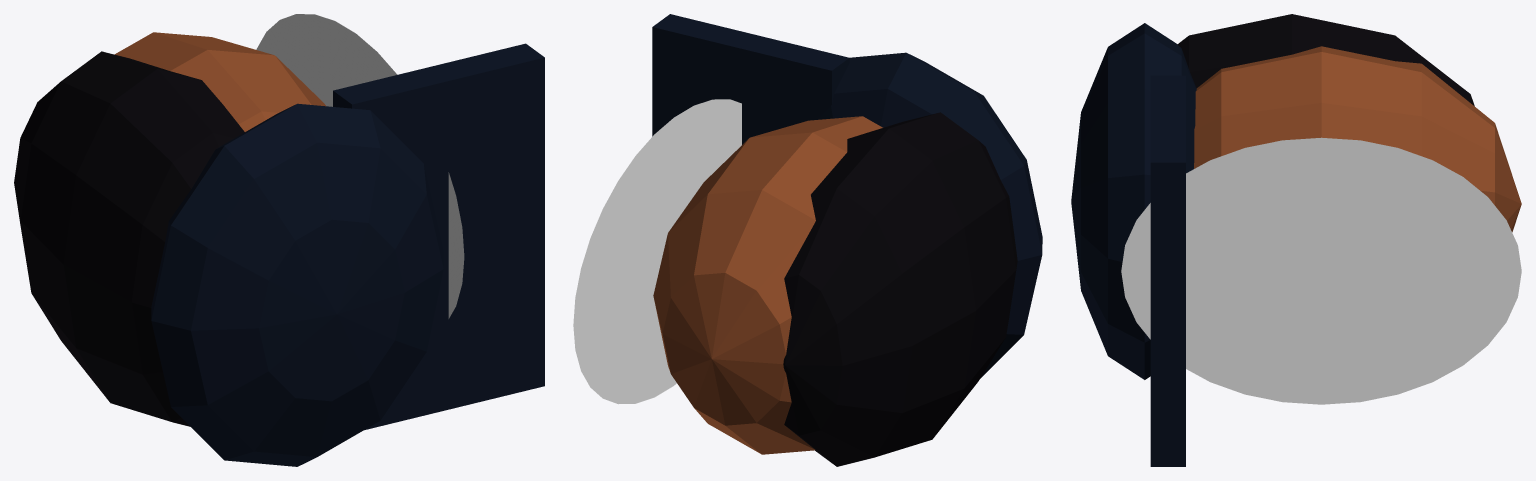
Rendered from Resident4Head.obj.
3 renders of one model, left to right at view 1: azimuth 30°, elevation 25°; view 2: azimuth 150°, elevation 25°; view 3: azimuth 270°, elevation 25°, orthographic. The views are drawn at different scales.
Parts seen in each view (by area): view 1: Resident4Head; view 2: Resident4Head; view 3: Resident4Head.
Part boxes in pixels (x1,y1,x2,y2): Resident4Head: (14, 14, 544, 466); Resident4Head: (573, 14, 1042, 466); Resident4Head: (1071, 14, 1521, 466).
Bounding box in the file's own units: 73.5 × 63 × 76.5.
